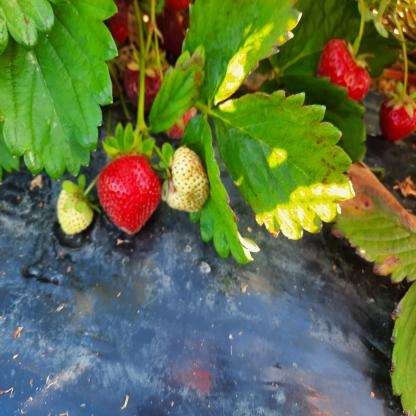ripe: (98, 154, 158, 228), (310, 42, 370, 104), (127, 62, 171, 102), (384, 89, 416, 137)
unripe: (164, 150, 212, 211), (57, 189, 91, 232)
